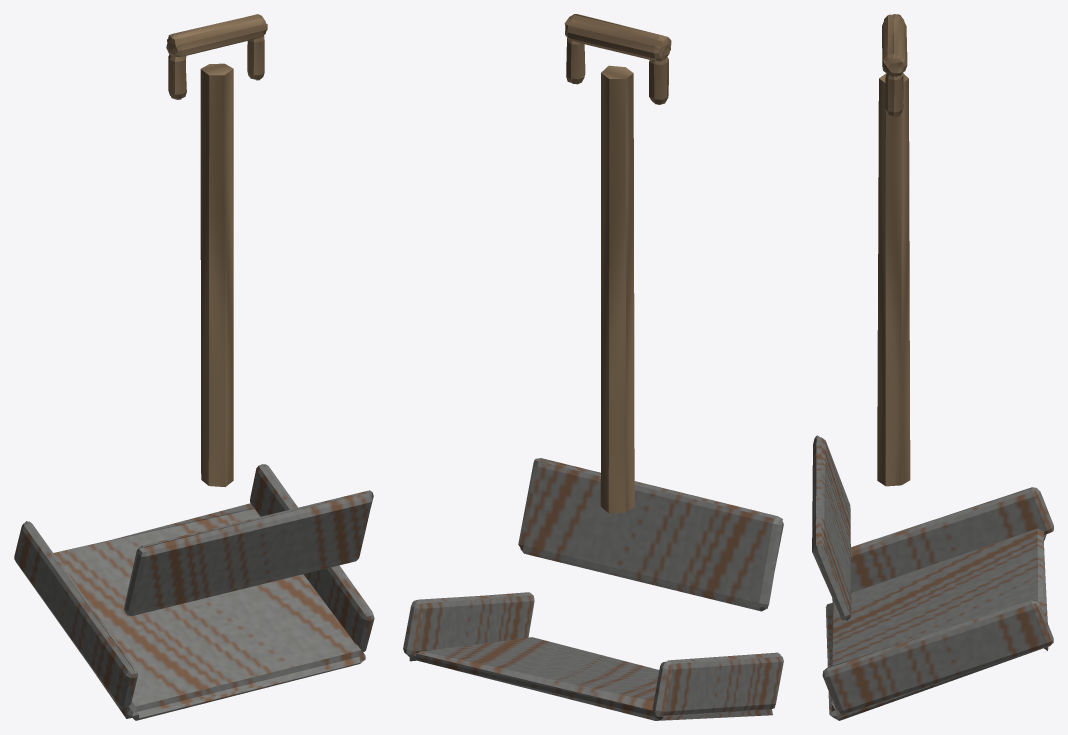
Rendered from wide_scoop.glb.
3 renders of one model, left to right at view 1: azimuth 30°, elevation 25°; view 2: azimuth 150°, elevation 25°; view 3: azimuth 270°, elevation 25°, orthographic. The views are drawn at different scales.
Parts seen in each view (by area): view 1: WideScoop; view 2: WideScoop; view 3: WideScoop.
Part boxes in pixels (bbox=[...]): WideScoop: bbox=[14, 14, 374, 720]; WideScoop: bbox=[403, 14, 783, 720]; WideScoop: bbox=[812, 14, 1053, 720].
Bounding box in the file's own units: 0.3157 × 0.7876 × 0.2725.
2 materials, 2 textured.
